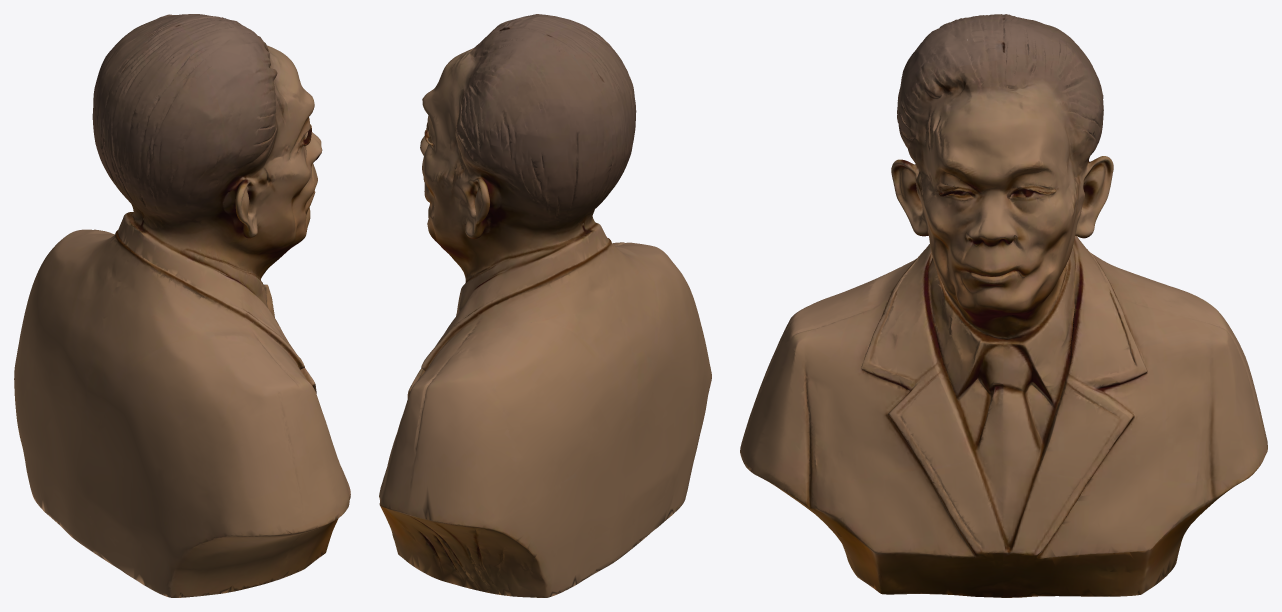
Rendered from 20bbefc5-76e8-4957-8b7d-6757e814f9dc_tuong.glb.
The picture shows the model from 3 angles, left to right: view 1: azimuth 30°, elevation 25°; view 2: azimuth 150°, elevation 25°; view 3: azimuth 270°, elevation 25°; orthographic projection. The views are drawn at different scales.
Visible parts, largest first — view 1: tripo_node_f848c8e4-30b2-4f4a-acf3-9d568743d0f9; view 2: tripo_node_f848c8e4-30b2-4f4a-acf3-9d568743d0f9; view 3: tripo_node_f848c8e4-30b2-4f4a-acf3-9d568743d0f9.
Boxes of the visible parts, x1,y1,x2,y2 form: tripo_node_f848c8e4-30b2-4f4a-acf3-9d568743d0f9: (14,14,350,597); tripo_node_f848c8e4-30b2-4f4a-acf3-9d568743d0f9: (379,14,711,597); tripo_node_f848c8e4-30b2-4f4a-acf3-9d568743d0f9: (740,14,1267,597).
Bounding box in the file's own units: 0.4639 × 1 × 0.8972.
Materials: 1 (1 with a texture image).
